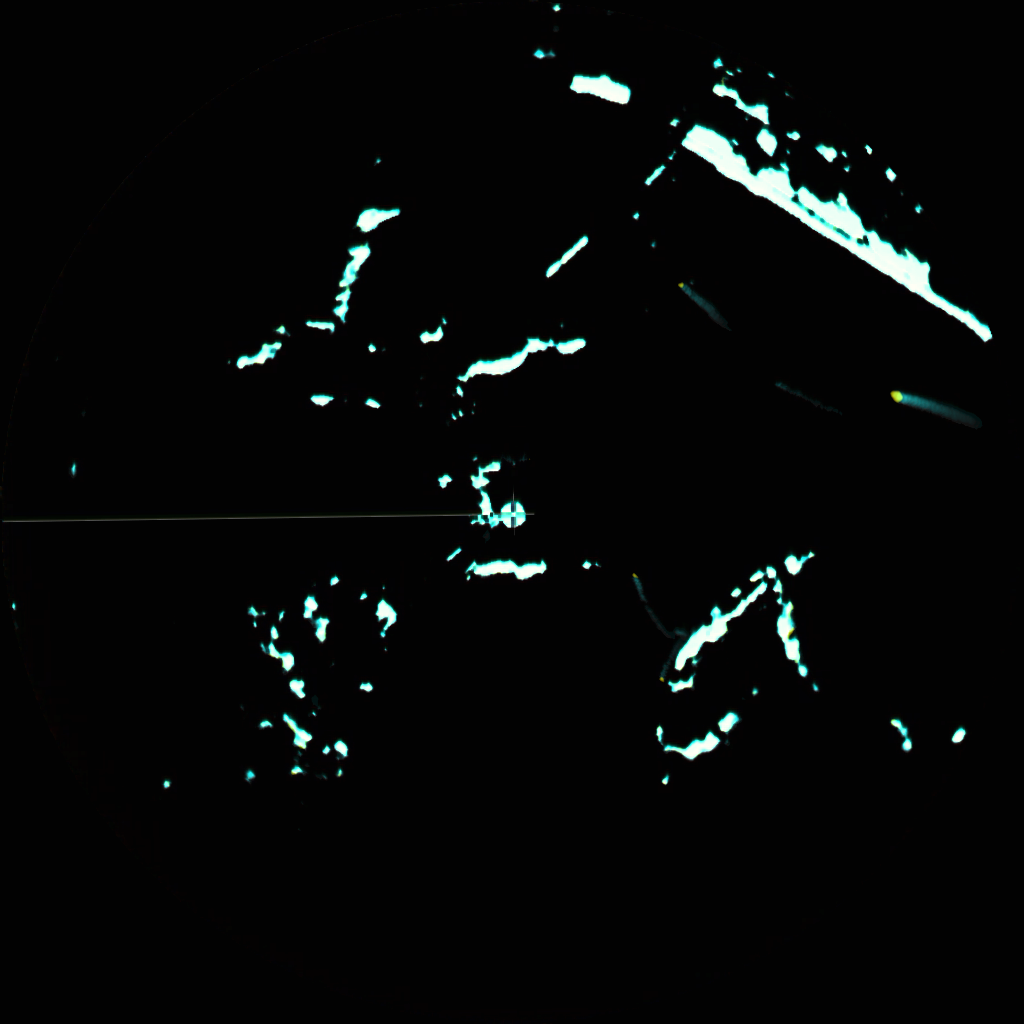B: (889, 389, 965, 421), (678, 278, 717, 315), (631, 570, 660, 617), (658, 651, 671, 685)
